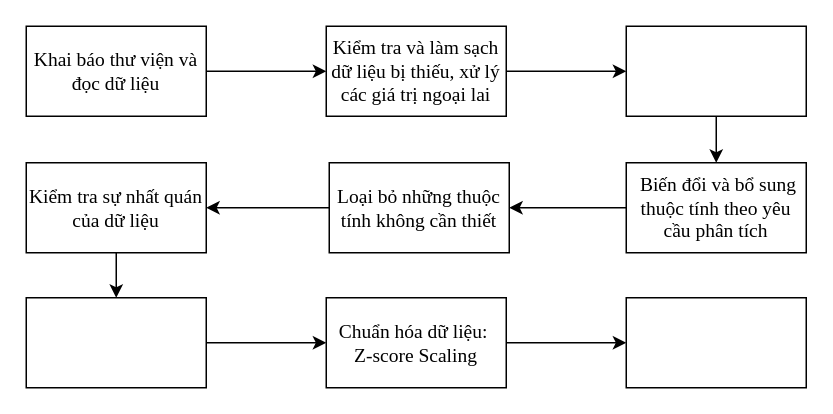
This 833x414 diagram has some shape labels left out. Each missing label, with the box of its shape:
Chuyển đổi kiểu dữ liệu (nếu cần): (625, 25, 806, 116)
Giảm chiều dữ liệu: PCA: (625, 296, 806, 388)
Mã hóa dữ liệu: StringIndexer: (25, 296, 206, 388)
